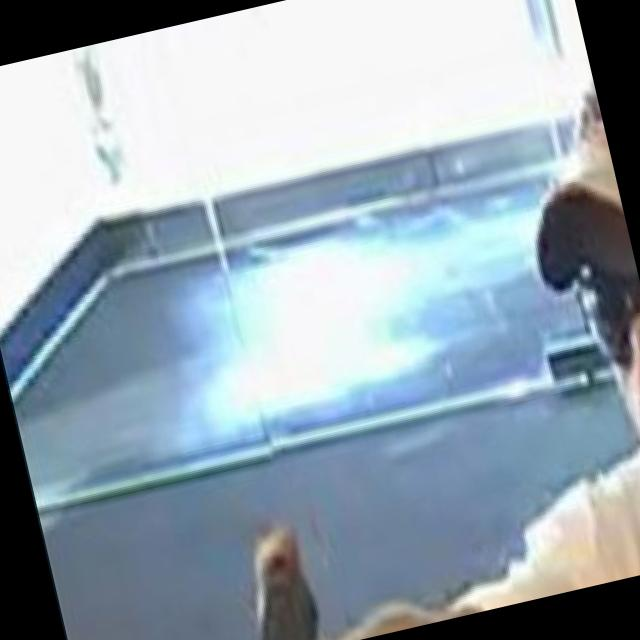Guns: (149, 533, 362, 640)
